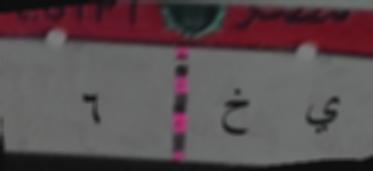6: (66, 92, 120, 127)
khaa: (212, 86, 257, 143)
yaa: (299, 90, 344, 136)
